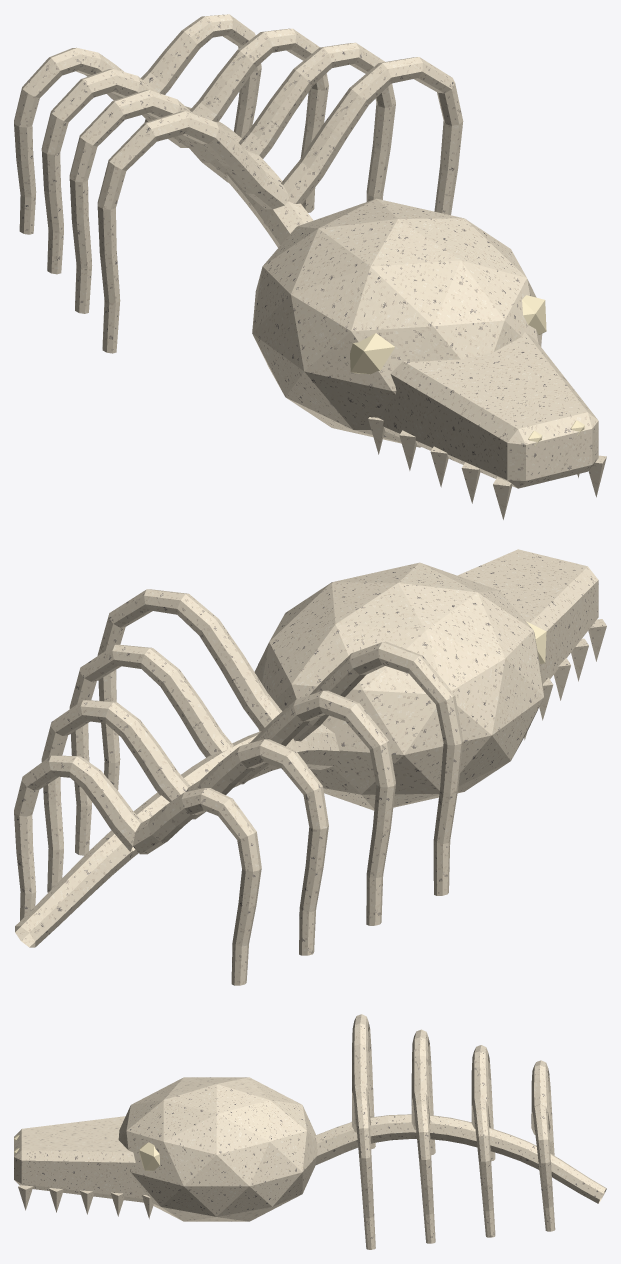
The model's file is ruins_fossil.glb.
3 views of the same model, one above another, from view 1: azimuth 30°, elevation 25°; view 2: azimuth 150°, elevation 25°; view 3: azimuth 270°, elevation 25° (orthographic). The views are drawn at different scales.
Visible parts, largest first — view 1: Fossil, Holes; view 2: Fossil; view 3: Fossil, Holes.
Boxes of the visible parts, x1=… form: Fossil: x1=14, y1=14, x2=606, y2=519; Holes: x1=350, y1=295, x2=584, y2=446; Fossil: x1=14, y1=549, x2=606, y2=985; Fossil: x1=14, y1=1014, x2=606, y2=1249; Holes: x1=14, y1=1135, x2=159, y2=1170.
Size of the model in its own units: 2.74 by 1.85 by 6.15.
Materials: 2 (1 with a texture image).
